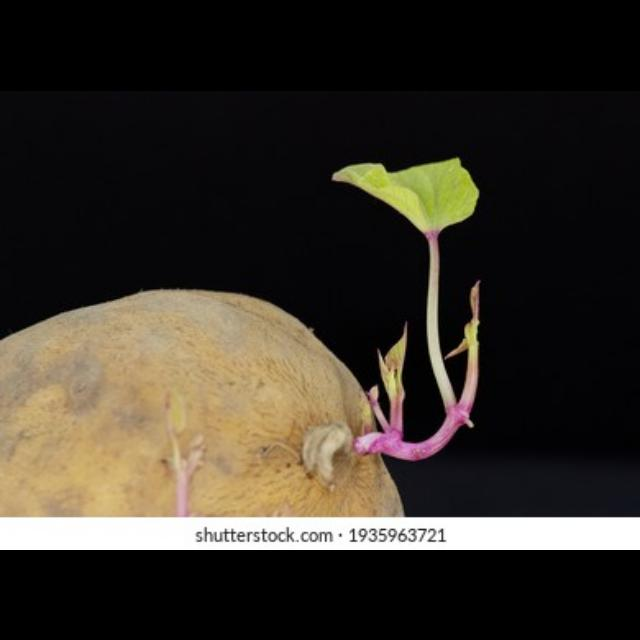Sprouted potato: (2, 212, 484, 520)
